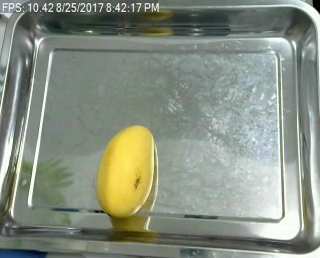Mango: (89, 123, 163, 223)
